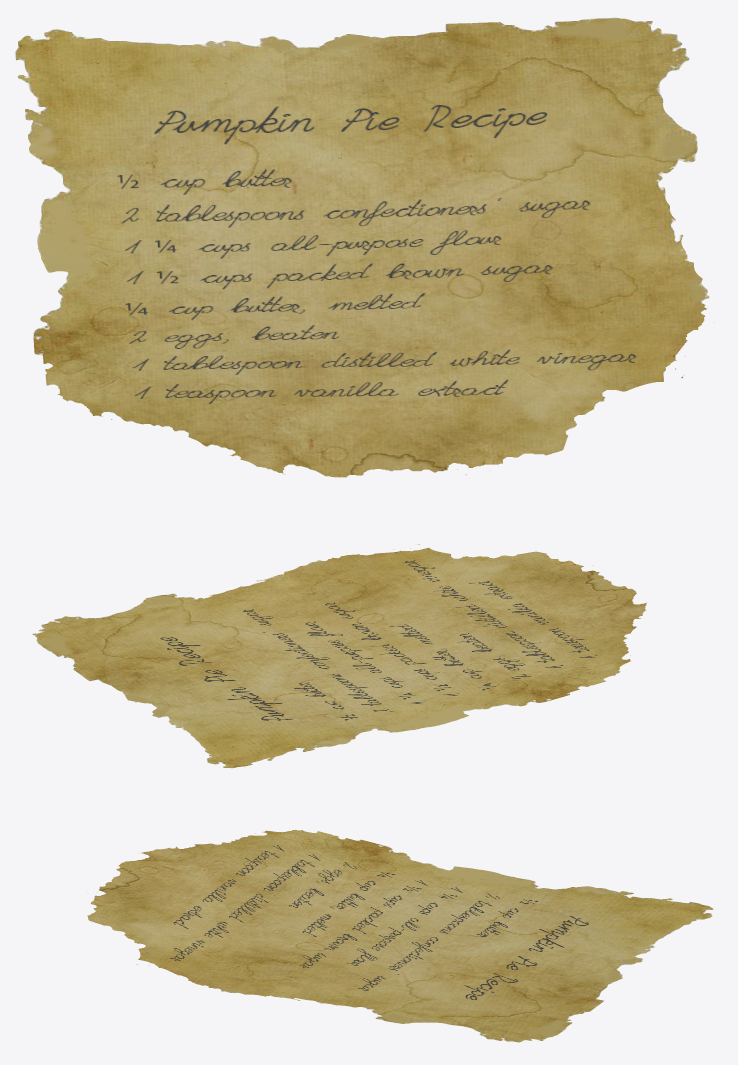
File: recipe.fbx
3 renders of one model, top to bottom at view 1: azimuth 30°, elevation 25°; view 2: azimuth 150°, elevation 25°; view 3: azimuth 270°, elevation 25°, orthographic. The views are drawn at different scales.
Parts seen in each view (by area): view 1: recipe; view 2: recipe; view 3: recipe.
Part boxes in pixels (x1,y1,x2,y2): recipe: (15, 17, 714, 477); recipe: (32, 544, 647, 768); recipe: (87, 829, 713, 1042).
Size of the model in its own units: 0.2788 by 0.00985 by 0.3145.
